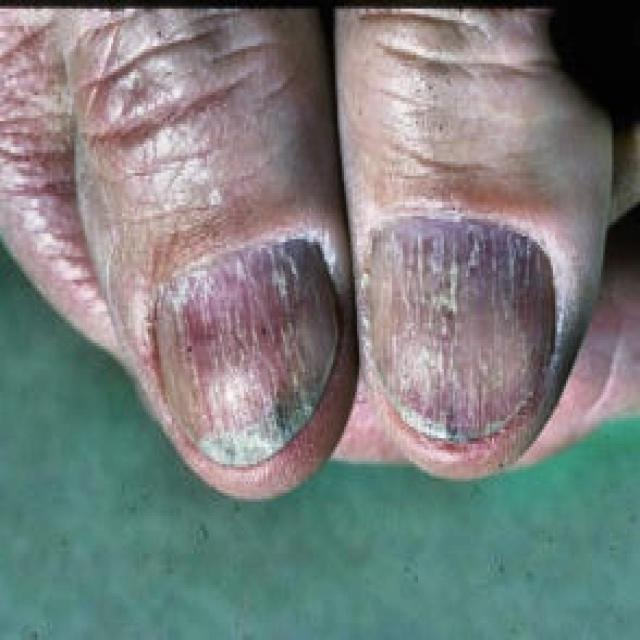Psoriasis-pictures-Lichen-Planus: (60, 216, 635, 535)
